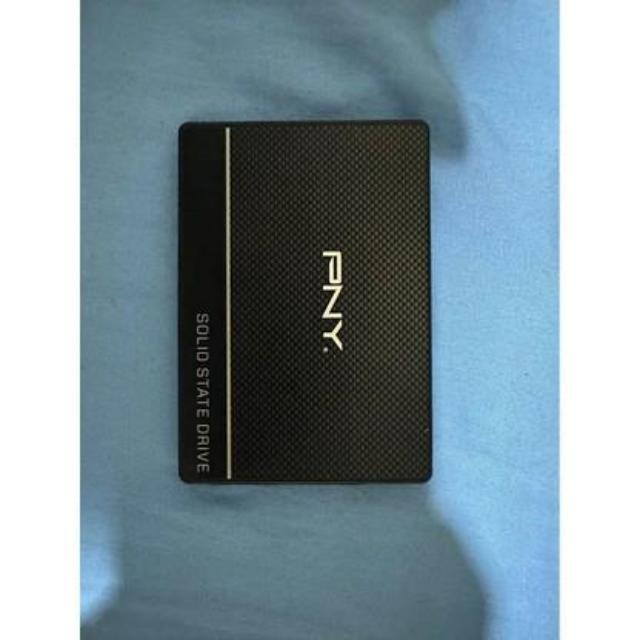DISK: (176, 120, 436, 491)
